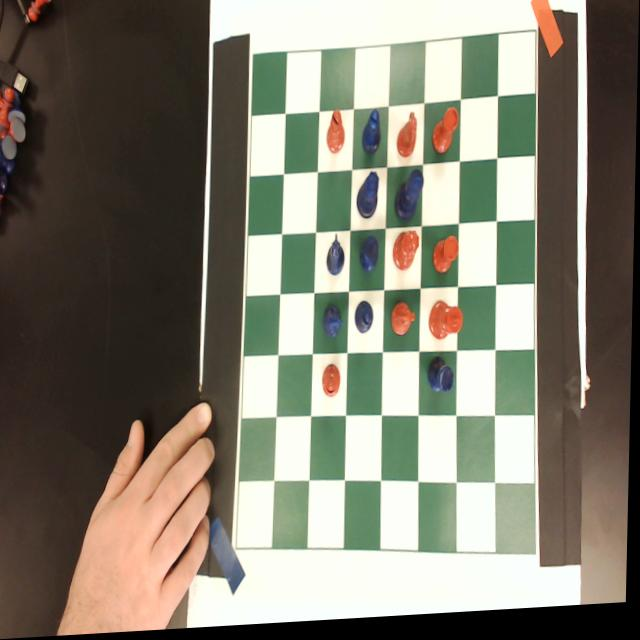B: (362, 110, 383, 164), (355, 304, 376, 341)
K: (395, 171, 426, 230)
N: (326, 237, 347, 284), (322, 305, 347, 344)
Q: (357, 175, 382, 226)
R: (428, 359, 457, 402), (360, 238, 382, 280)
b: (326, 112, 346, 160), (323, 366, 343, 403)
k: (429, 302, 465, 349)
n: (396, 114, 419, 163), (391, 303, 418, 344)
q: (393, 233, 422, 277)
r: (432, 111, 461, 162), (434, 239, 461, 280)
